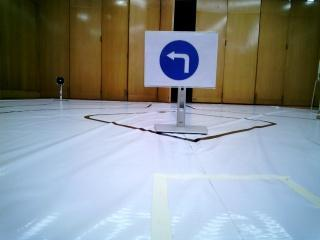left: (154, 37, 208, 88)
